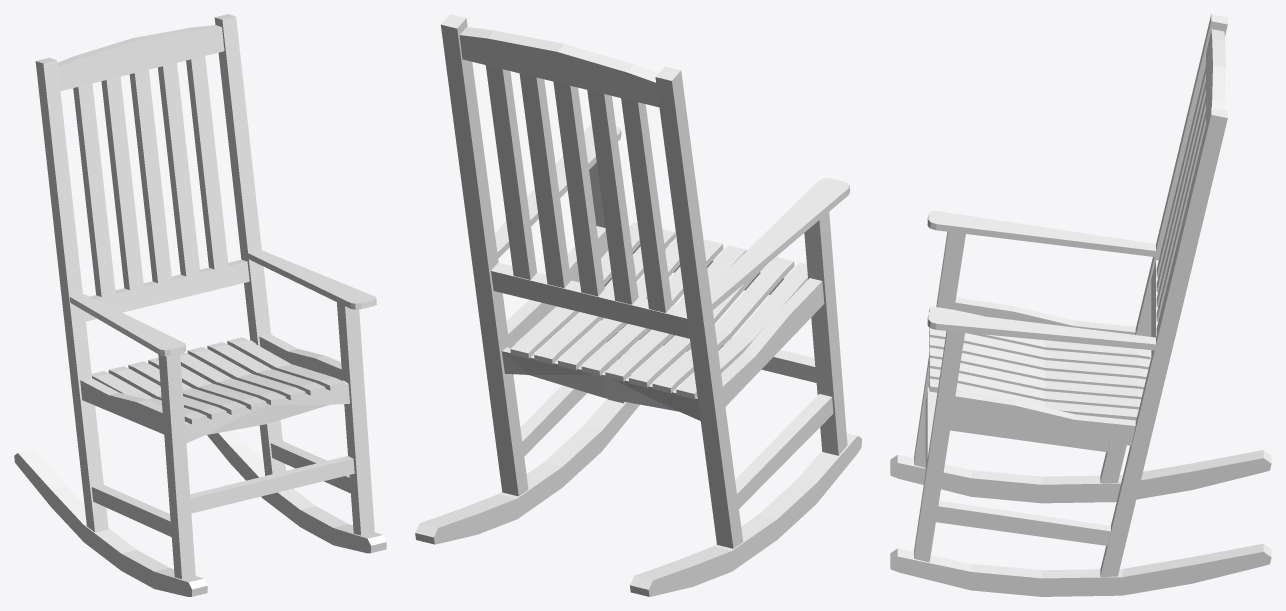
File: Prop_Rocking_Chair_01.glb
The picture shows the model from 3 angles, left to right: view 1: azimuth 30°, elevation 25°; view 2: azimuth 150°, elevation 25°; view 3: azimuth 270°, elevation 25°; orthographic projection. The views are drawn at different scales.
Parts seen in each view (by area): view 1: Prop_Rocking Chair_01; view 2: Prop_Rocking Chair_01; view 3: Prop_Rocking Chair_01.
Boxes of the visible parts, x1=… form: Prop_Rocking Chair_01: x1=14, y1=14, x2=386, y2=596; Prop_Rocking Chair_01: x1=415, y1=14, x2=861, y2=596; Prop_Rocking Chair_01: x1=890, y1=14, x2=1271, y2=596.
Size of the model in its own units: 0.5644 by 1.12 by 0.8056.
1 material, 1 textured.
